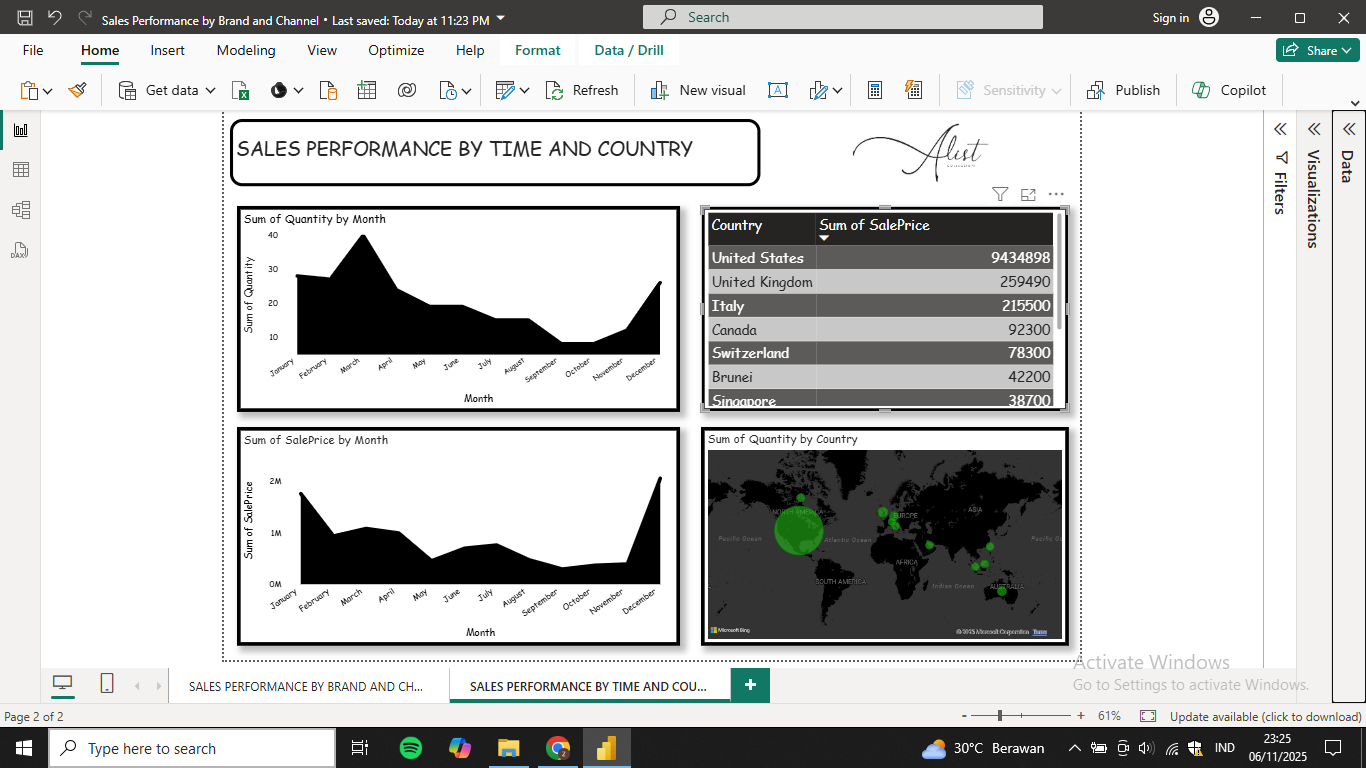

The page's visual inventory and layout, read from the dashboard file:
{"tool":"powerbi","page":{"name":"SALES PERFORMANCE BY TIME AND COUNTRY","canvas":[1400,900],"ordinal":1},"visuals":[{"type":"textbox","box":[9.6,15.1,868.5,110.1],"z":0},{"type":"image","box":[875.5,14.7,525.3,111.3],"z":1},{"type":"lineChart","fields":{"Category":["clean_data.SaleDate.Variation.Date Hierarchy.Month"],"Y":["clean_data.Quantity"]},"box":[21.3,157.1,724.9,337.1],"z":2},{"type":"lineChart","fields":{"Category":["clean_data.SaleDate.Variation.Date Hierarchy.Month"],"Y":["clean_data.SalePrice"]},"box":[21.3,518.7,724.9,358.4],"z":3},{"type":"tableEx","fields":{"Values":["clean_data.Country","clean_data.SalePrice"]},"box":[780.5,157.1,602.2,337.1],"z":4},{"type":"map","fields":{"Category":["clean_data.Country"],"Size":["clean_data.Quantity"]},"box":[780.5,518.7,602.2,358.4],"z":5}]}

Visuals, with their boxes on the page's 1400x900 design canvas (x1, y1, x2, y2). These are canvas units, not pixel positions in the 1366x768 screenshot, which may show the page scaled, cropped or inside an application window:
textbox: x1=10, y1=15, x2=878, y2=125
image: x1=876, y1=15, x2=1401, y2=126
lineChart - clean_data.SaleDate.Variation.Date Hierarchy.Month x clean_data.Quantity: x1=21, y1=157, x2=746, y2=494
lineChart - clean_data.SaleDate.Variation.Date Hierarchy.Month x clean_data.SalePrice: x1=21, y1=519, x2=746, y2=877
tableEx - clean_data.Country x clean_data.SalePrice: x1=780, y1=157, x2=1383, y2=494
map - clean_data.Country x clean_data.Quantity: x1=780, y1=519, x2=1383, y2=877
